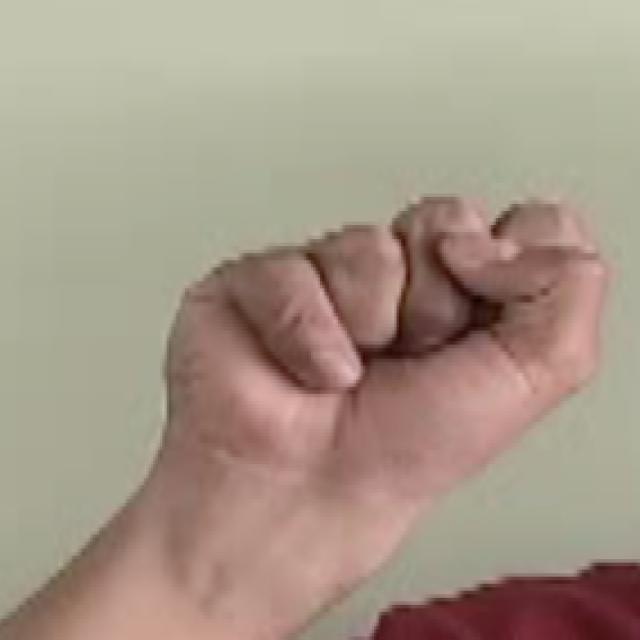S: (147, 180, 613, 550)
